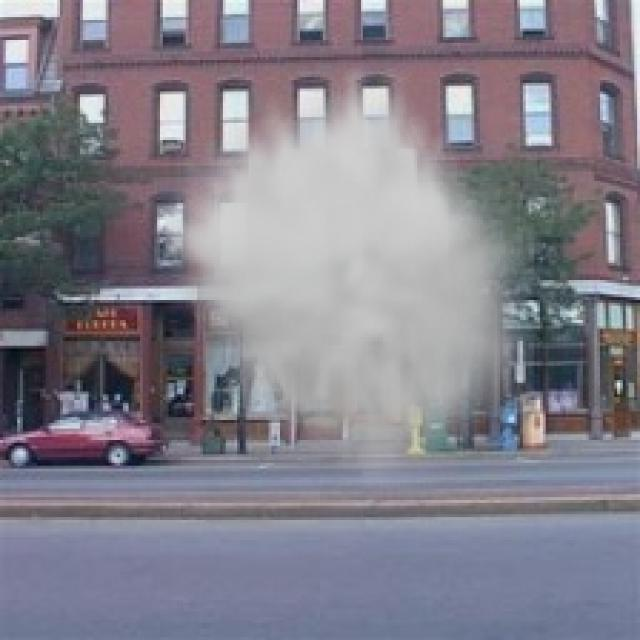Smoke: (166, 69, 534, 488)
